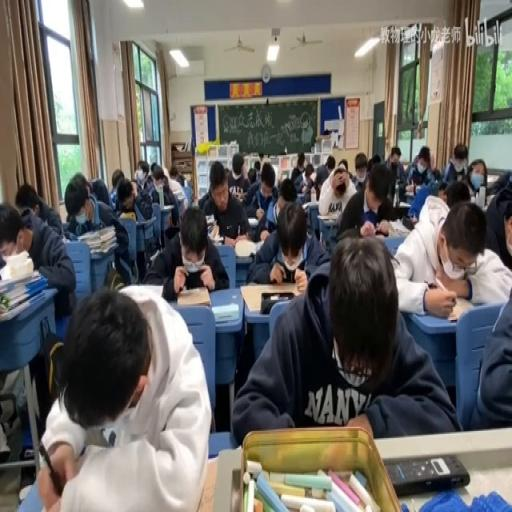calculator: (240, 282, 303, 312), (192, 455, 224, 509), (174, 286, 210, 307), (446, 298, 475, 322), (78, 224, 114, 242), (210, 300, 238, 322), (2, 248, 30, 270), (381, 233, 406, 256), (171, 188, 187, 214), (234, 238, 257, 256), (389, 219, 411, 236), (90, 244, 116, 258), (133, 213, 155, 226), (317, 209, 340, 221), (120, 209, 136, 221), (206, 219, 216, 235), (302, 199, 318, 209), (296, 192, 310, 202), (254, 239, 264, 252), (246, 214, 258, 224), (405, 183, 414, 195), (160, 204, 173, 210), (166, 213, 172, 226)
paper: (231, 234, 453, 440), (35, 284, 208, 512), (391, 194, 510, 314), (0, 198, 76, 331), (64, 172, 128, 292), (146, 205, 226, 300), (245, 195, 329, 283), (145, 162, 180, 226), (337, 190, 366, 238), (404, 145, 434, 186), (224, 152, 250, 199), (383, 145, 405, 195), (444, 142, 470, 184), (313, 151, 334, 193), (464, 158, 487, 195), (109, 165, 128, 208), (275, 176, 296, 214), (444, 181, 470, 209), (486, 171, 512, 199), (352, 149, 370, 188), (88, 176, 110, 206), (134, 159, 149, 189), (290, 162, 304, 192), (260, 165, 275, 193), (367, 152, 381, 172), (428, 179, 443, 196), (258, 152, 270, 171), (247, 165, 258, 185), (168, 165, 178, 182), (304, 165, 314, 181), (85, 176, 93, 194), (277, 171, 286, 186), (430, 168, 440, 180), (338, 158, 347, 171), (152, 175, 162, 186), (131, 176, 138, 190)
person: (386, 452, 470, 494), (397, 202, 410, 219), (213, 234, 223, 244)
